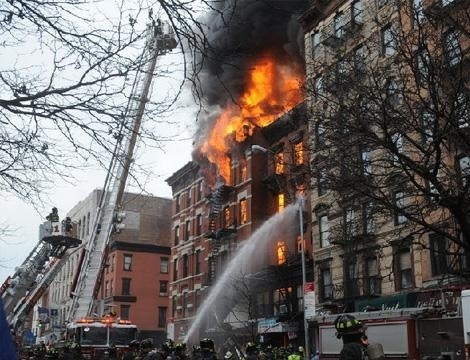fire: (195, 53, 307, 275), (274, 238, 286, 263)
